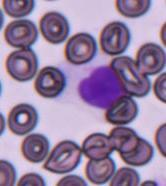M: (78, 64, 124, 109)
